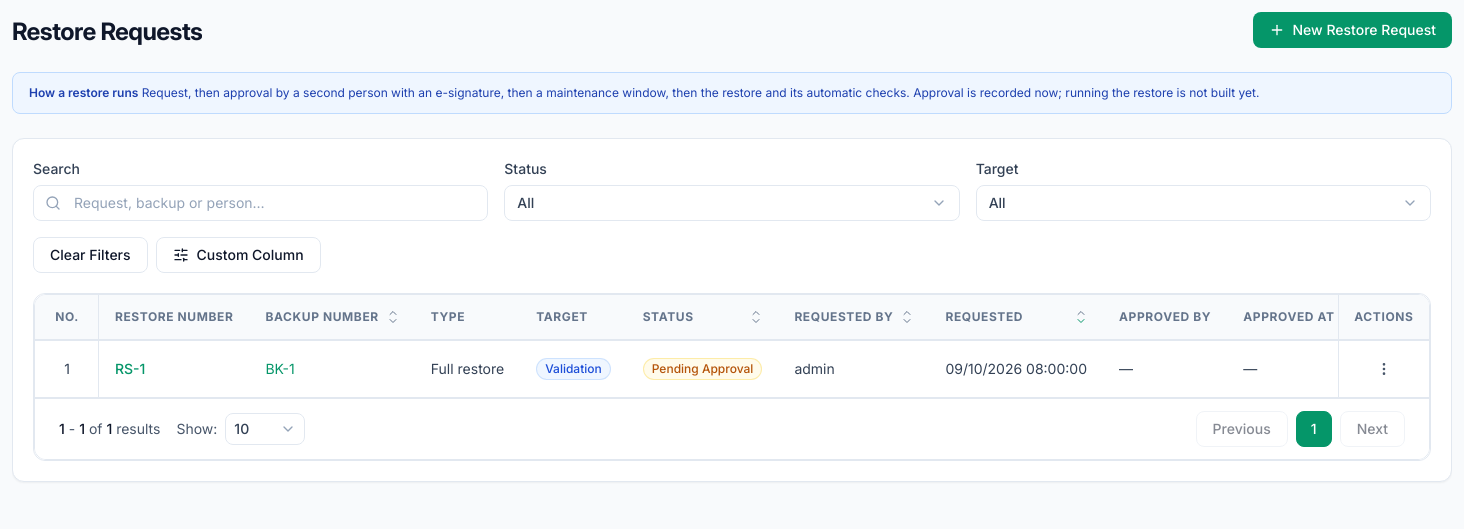
Restore requests list actions › offers View Detail and, for another person's pending request, Approve Request
The image size is (1464, 529).
Click the button named "More actions" at {"x": 1383, "y": 368}, box x1=1367 y1=352 x2=1399 y2=384
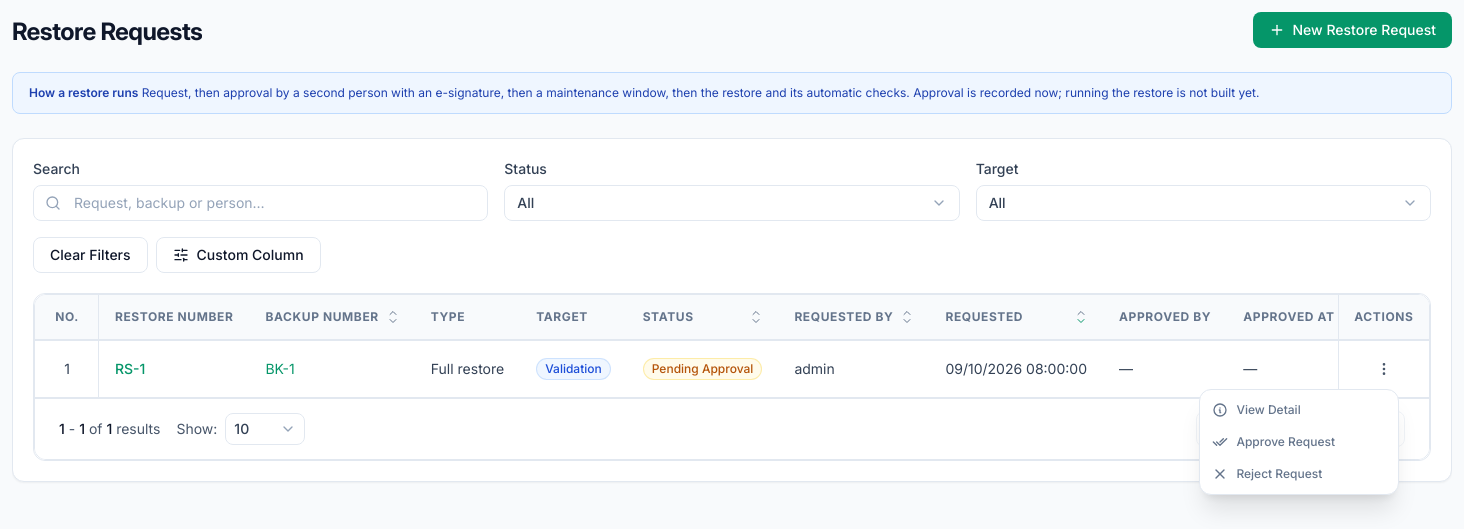
Check: the button "View Detail" is shown, box x1=1200 y1=394 x2=1398 y2=426
Check: the button "Approve Request" is shown, box x1=1200 y1=426 x2=1398 y2=458
